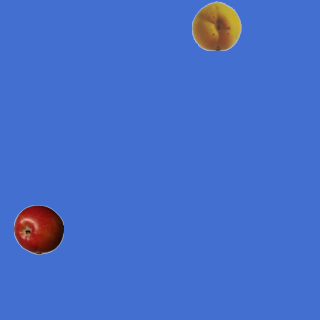Apple Braeburn: (13, 204, 63, 254)
Peach 2: (191, 0, 241, 50)
